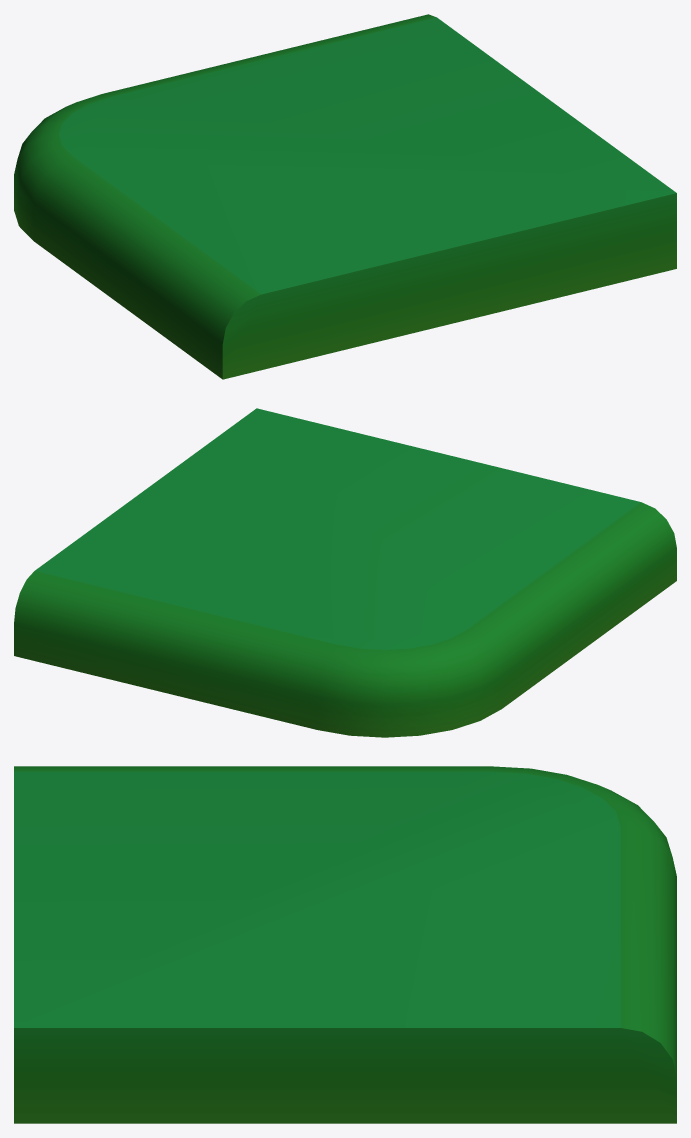
Rendered from GF_Corner_2_1.glb.
3 renders of one model, top to bottom at view 1: azimuth 30°, elevation 25°; view 2: azimuth 150°, elevation 25°; view 3: azimuth 270°, elevation 25°, orthographic. The views are drawn at different scales.
Parts seen in each view (by area): view 1: GF_Corner_2_1; view 2: GF_Corner_2_1; view 3: GF_Corner_2_1.
Part boxes in pixels (x1=…): GF_Corner_2_1: x1=14, y1=14, x2=676, y2=379; GF_Corner_2_1: x1=14, y1=408, x2=676, y2=737; GF_Corner_2_1: x1=14, y1=766, x2=676, y2=1123.
Size of the model in its own units: 2 by 0.3187 by 2.
1 material, 1 textured.
